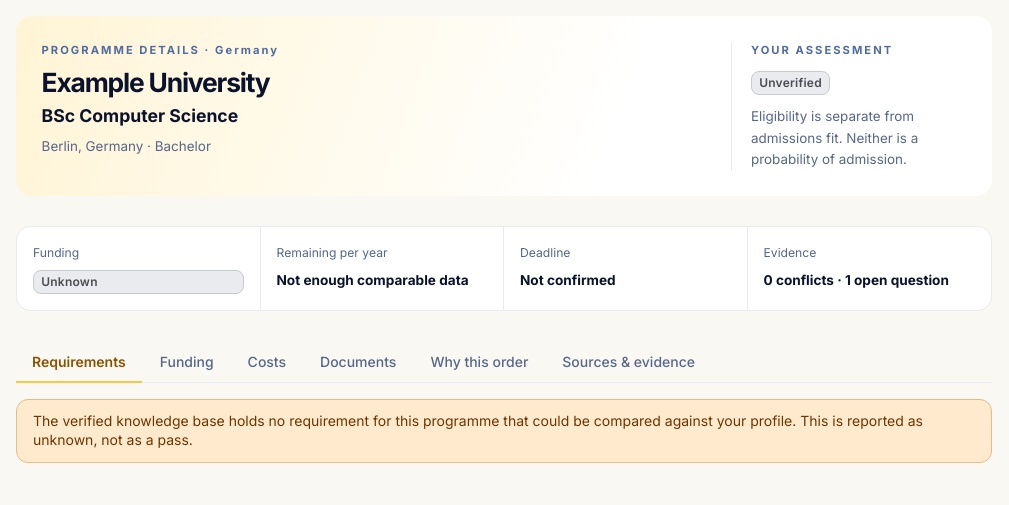
it: the Funding tab with no award › says in kb mode that no page was read, and shows the open question
Click the tab with test id "tab-funding".
click(187, 363)  # box [144,343,230,383]
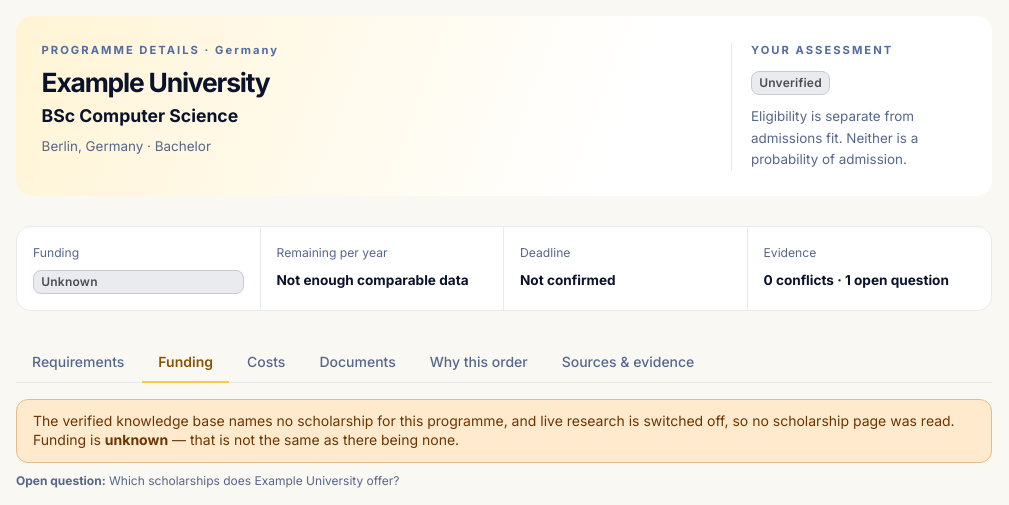
Expected: the text "names no scholarship for this programme" is shown, [33,412,955,448]
Expected: the text "Which scholarships does Example University offer?" is shown, [109,473,400,488]
